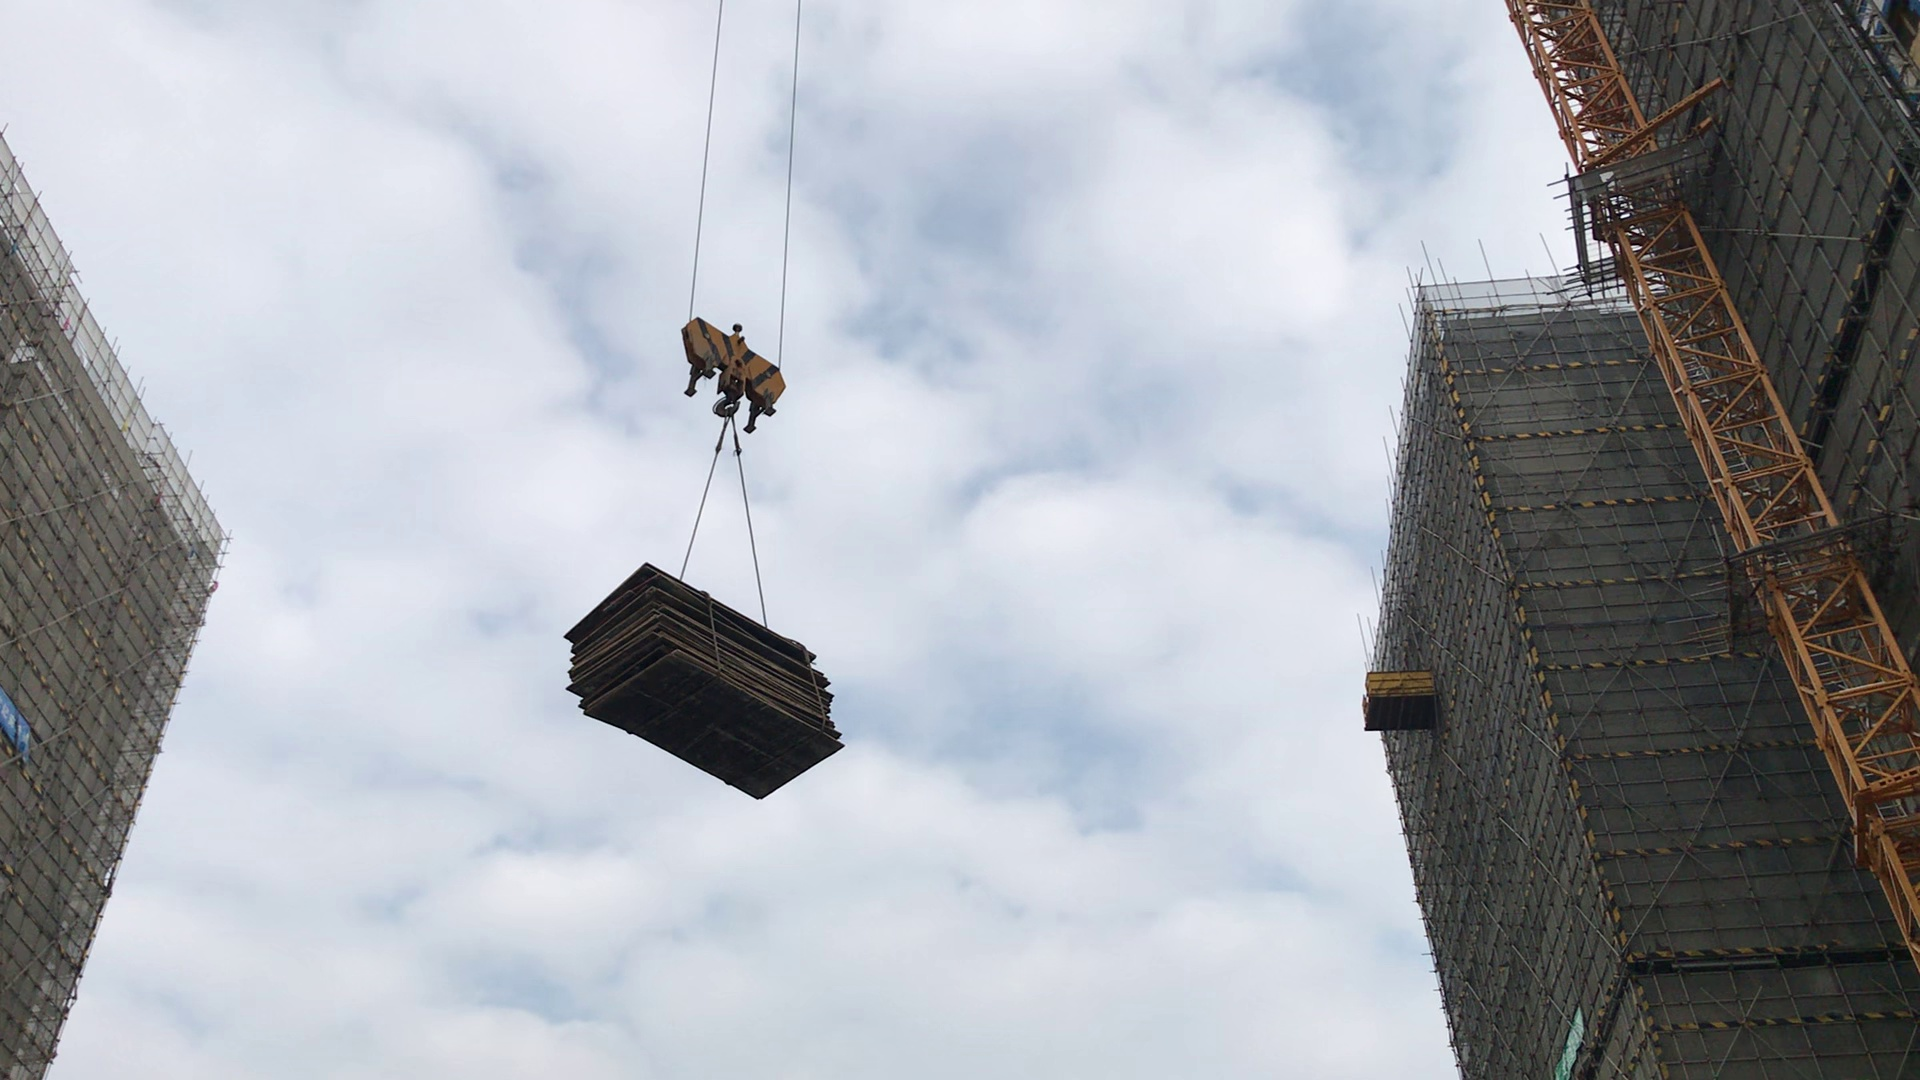board: (564, 566, 862, 808)
hook: (676, 315, 798, 444)
